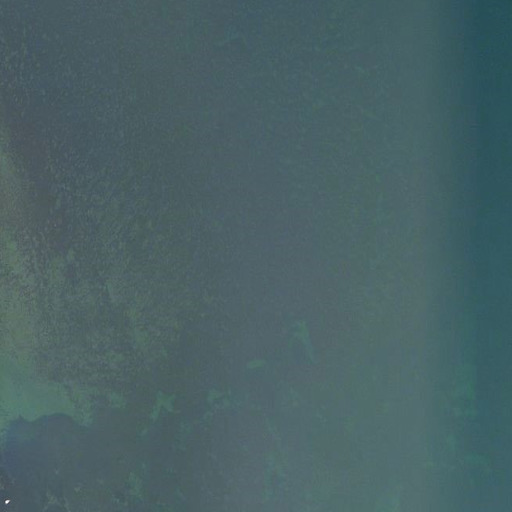ship: (2, 496, 11, 507)
